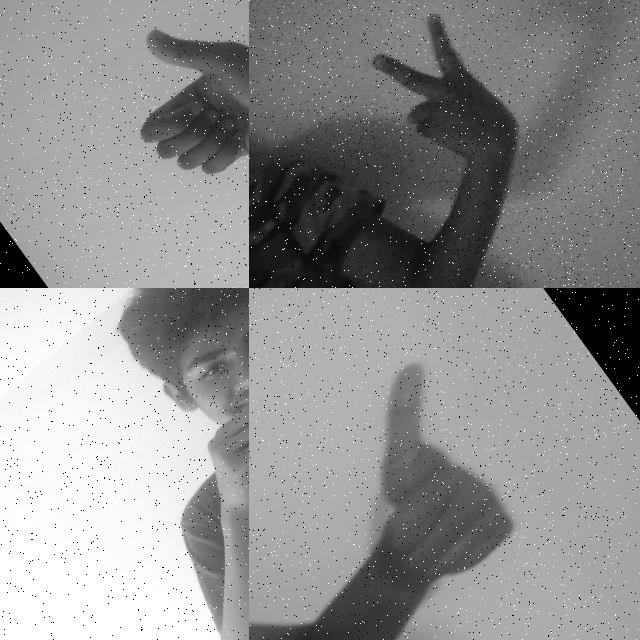Fist Mouth: (77, 288, 249, 554)
Reversed Victory: (347, 0, 543, 199)
Thumbs Up: (300, 346, 543, 606), (86, 0, 249, 225)
